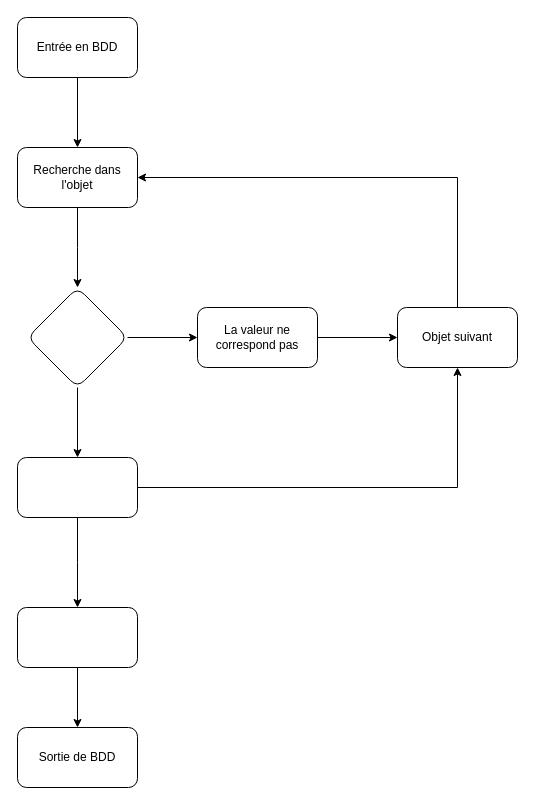
This 535x805 diagram has some shape labels left out. The shapes that lost their labels are listed below. From the top down, each one's centre as x and y in pixels, then its label:
the point at 77,337: Parcours la propriété demandé
the point at 77,487: La valeur correspond
the point at 77,637: Envoi de l'Objets
